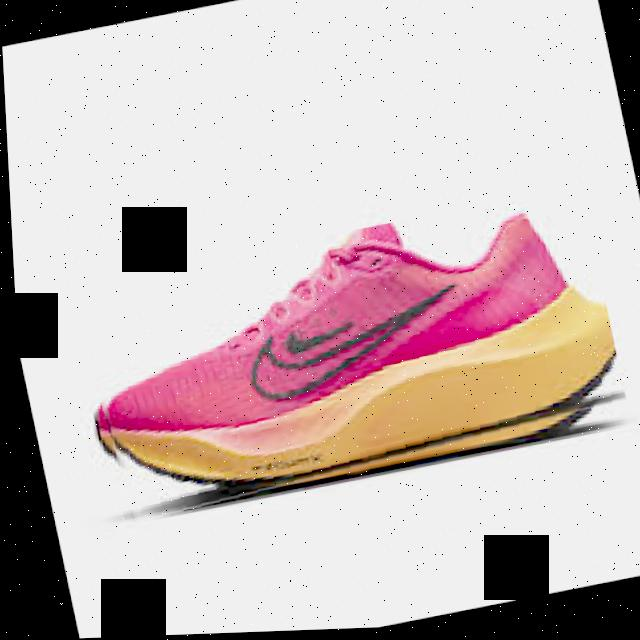shoe: (61, 189, 630, 528)
